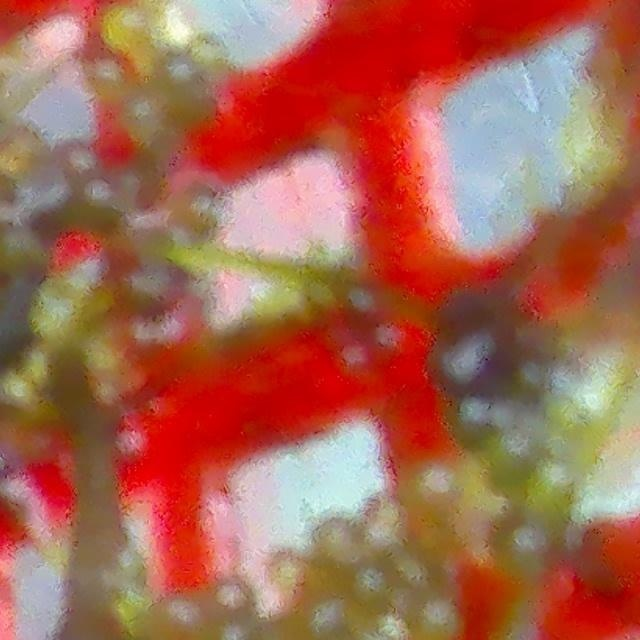SeaGrape: (434, 316, 523, 400), (407, 596, 466, 640), (56, 139, 97, 195)
